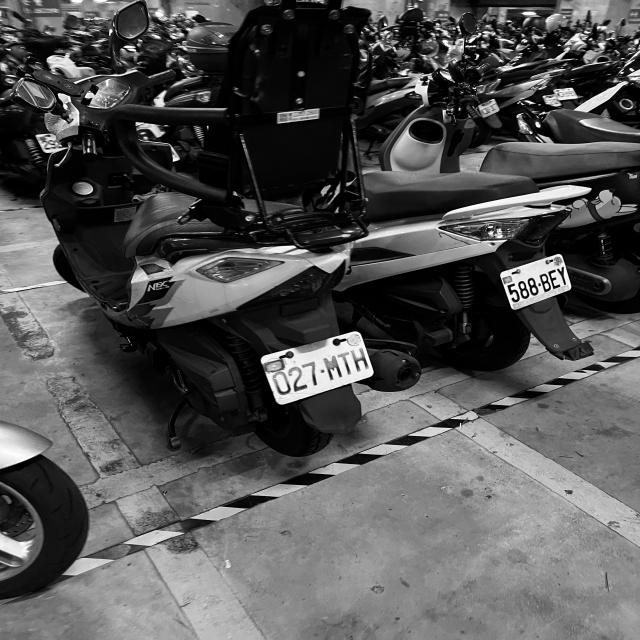-: (319, 367, 327, 375), (537, 282, 542, 287)
0: (270, 369, 294, 398)
2: (287, 365, 310, 394)
5: (506, 282, 523, 304)
7: (300, 360, 321, 387)
8: (516, 279, 532, 300), (526, 275, 540, 297)
B: (537, 272, 553, 293)
E: (547, 269, 561, 290)
H: (349, 346, 370, 373)
M: (322, 354, 345, 381)
T: (335, 349, 356, 375)
Y: (556, 266, 569, 286)
plate: (261, 337, 374, 403), (502, 256, 572, 308)
